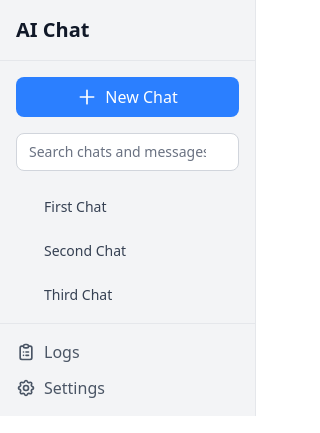
Test case: ChatSidebar › search functionality › shows empty state when no chats match search
The width and height of the screenshot is (320, 433).
Type "nonexistent" into the field with placeholder "Search chats and messages..." at (128, 152), box x1=16 y1=133 x2=239 y2=171
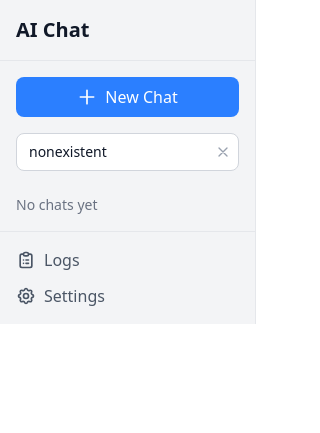
Result: the text "No chats yet" is shown at x1=16 y1=195 x2=98 y2=214
